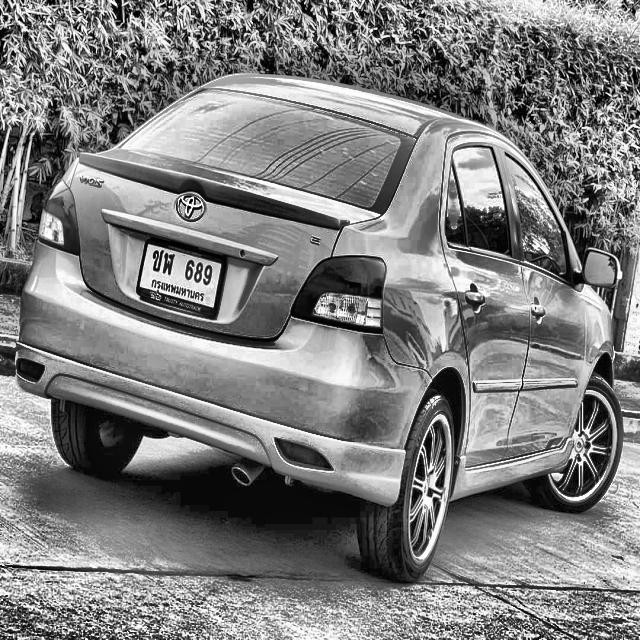license-plate: (136, 234, 229, 326)
